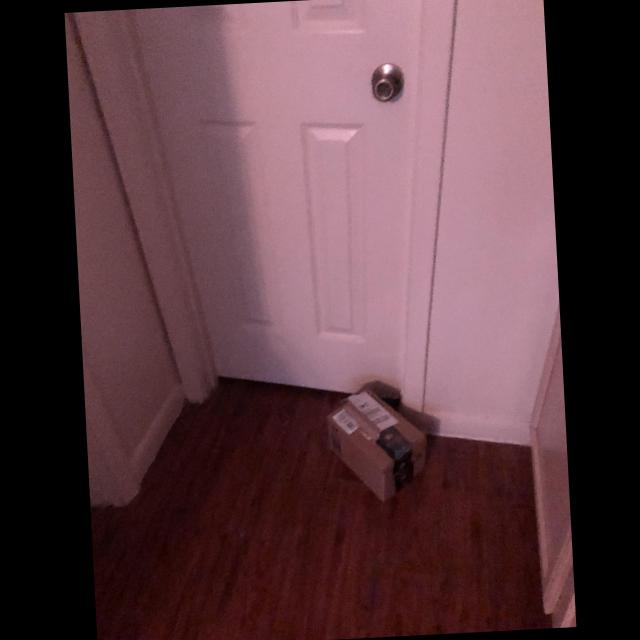box: (322, 384, 431, 504)
